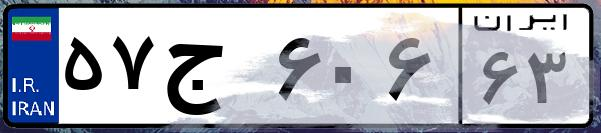0: (330, 28, 385, 110)
3: (525, 38, 570, 115)
5: (57, 26, 110, 100)
6: (270, 28, 330, 110), (385, 28, 445, 110), (475, 38, 525, 113)
7: (110, 28, 158, 98)
ج: (158, 20, 270, 120)
